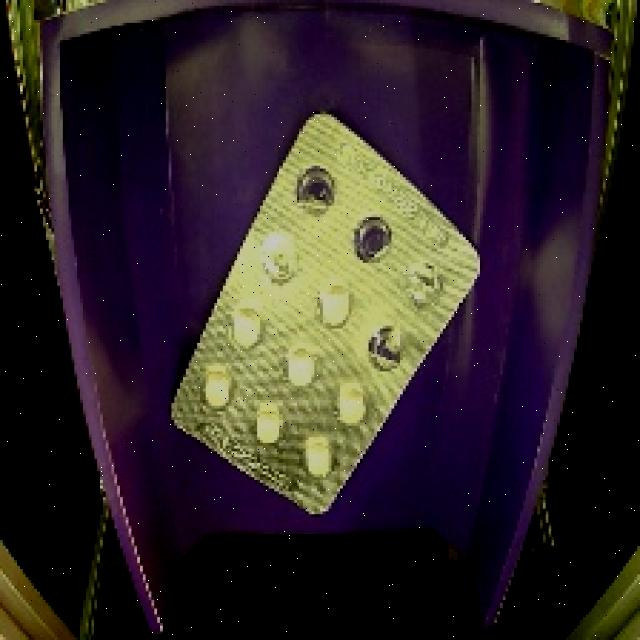med_plate: (154, 103, 499, 534)
